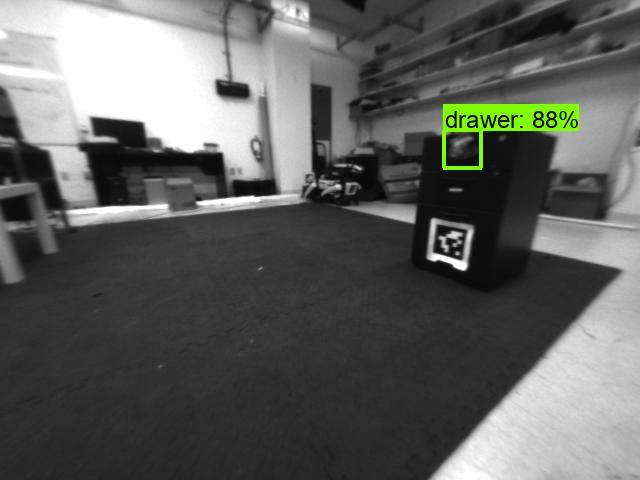drawer: (444, 134, 478, 163)
